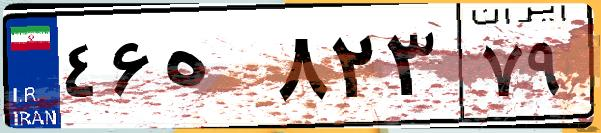2: (330, 28, 385, 110)
3: (385, 28, 445, 110)
4: (57, 26, 110, 100)
6: (110, 28, 158, 98)
7: (475, 38, 525, 113)
8: (270, 28, 330, 110)
9: (525, 38, 570, 115)
ه: (158, 20, 270, 120)
